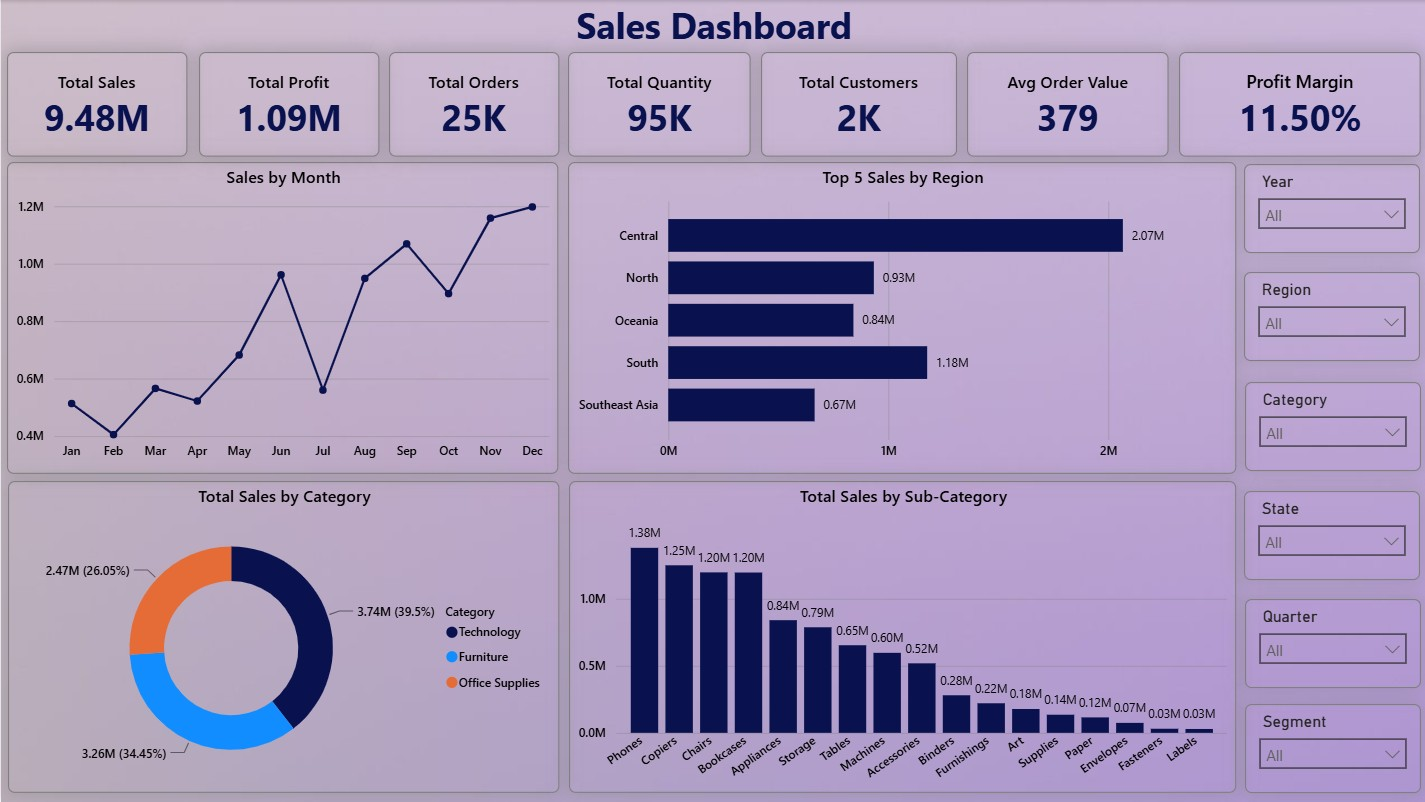

The page's visual inventory and layout, read from the dashboard file:
{"tool":"powerbi","page":{"name":"Sales Dashboard","canvas":[1280,720],"ordinal":0},"visuals":[{"type":"cardVisual","fields":{"Data":["SalesMeasure.Total Sales"]},"box":[5.4,47,161.6,94.3],"z":0},{"type":"cardVisual","fields":{"Data":["SalesMeasure.Total Profit"]},"box":[177.8,47,161.6,94.3],"z":1000},{"type":"cardVisual","fields":{"Data":["SalesMeasure.Total Orders"]},"box":[348.3,47,152.6,94.3],"z":2000},{"type":"cardVisual","fields":{"Data":["SalesMeasure.Total Quantity"]},"box":[509,47,164.3,94.3],"z":3000},{"type":"cardVisual","fields":{"Data":["SalesMeasure.Total Customers"]},"box":[682.3,47,176,94.3],"z":4000},{"type":"cardVisual","fields":{"Data":["SalesMeasure.Average OrderValue"]},"box":[867.2,47,181.3,94.3],"z":5000},{"type":"cardVisual","fields":{"Data":["SalesMeasure.Profit Margin"]},"box":[1057.6,47,217.3,94.3],"z":6000},{"type":"lineChart","title":"Sales by Month","fields":{"Category":["Calendar Table.Month Name"],"Y":["SalesMeasure.Total Sales"]},"box":[5.4,145.4,494.7,280.1],"z":7000},{"type":"clusteredBarChart","title":"Top 5 Sales by Region","fields":{"Category":["Sales.Region"],"Y":["SalesMeasure.Total Sales"]},"box":[509,145.4,599.7,280.1],"z":8000},{"type":"donutChart","fields":{"Category":["Sales.Category"],"Y":["SalesMeasure.Total Sales"]},"box":[6.3,431.8,494.7,280.1],"z":9000},{"type":"textbox","box":[0,0,1280.2,46.7],"z":10000},{"type":"clusteredColumnChart","fields":{"Category":["Sales.Sub-Category"],"Y":["SalesMeasure.Total Sales"]},"box":[509.9,431.8,598.8,280.1],"z":11000},{"type":"slicer","fields":{"Values":["Calendar Table.Year"]},"box":[1115.9,147.2,158,79.9],"z":12000},{"type":"slicer","fields":{"Values":["Sales.Region"]},"box":[1115.9,244,158,79.9],"z":13000},{"type":"slicer","fields":{"Values":["Sales.Category"]},"box":[1116.8,343,158,79.9],"z":14000},{"type":"slicer","fields":{"Values":["Sales.State"]},"box":[1115.9,441,158,79.9],"z":15000},{"type":"slicer","fields":{"Values":["Calendar Table.Quarter"]},"box":[1116.8,537.8,158,79.9],"z":16000},{"type":"slicer","fields":{"Values":["Sales.Segment"]},"box":[1116.8,632,158,79.9],"z":17000}]}

Visuals, with their boxes in screenshot pixels (x1, y1, x2, y2), scaled from the page's 1280x720 canvas onto the 1425x802 screenshot:
cardVisual - SalesMeasure.Total Sales: bbox(6, 52, 186, 157)
cardVisual - SalesMeasure.Total Profit: bbox(198, 52, 378, 157)
cardVisual - SalesMeasure.Total Orders: bbox(388, 52, 558, 157)
cardVisual - SalesMeasure.Total Quantity: bbox(567, 52, 750, 157)
cardVisual - SalesMeasure.Total Customers: bbox(760, 52, 956, 157)
cardVisual - SalesMeasure.Average OrderValue: bbox(965, 52, 1167, 157)
cardVisual - SalesMeasure.Profit Margin: bbox(1177, 52, 1419, 157)
"Sales by Month" lineChart: bbox(6, 162, 557, 474)
"Top 5 Sales by Region" clusteredBarChart: bbox(567, 162, 1234, 474)
donutChart - Sales.Category x SalesMeasure.Total Sales: bbox(7, 481, 558, 793)
textbox: bbox(0, 0, 1424, 52)
clusteredColumnChart - Sales.Sub-Category x SalesMeasure.Total Sales: bbox(568, 481, 1234, 793)
slicer - Calendar Table.Year: bbox(1242, 164, 1418, 253)
slicer - Sales.Region: bbox(1242, 272, 1418, 361)
slicer - Sales.Category: bbox(1243, 382, 1419, 471)
slicer - Sales.State: bbox(1242, 491, 1418, 580)
slicer - Calendar Table.Quarter: bbox(1243, 599, 1419, 688)
slicer - Sales.Segment: bbox(1243, 704, 1419, 793)
